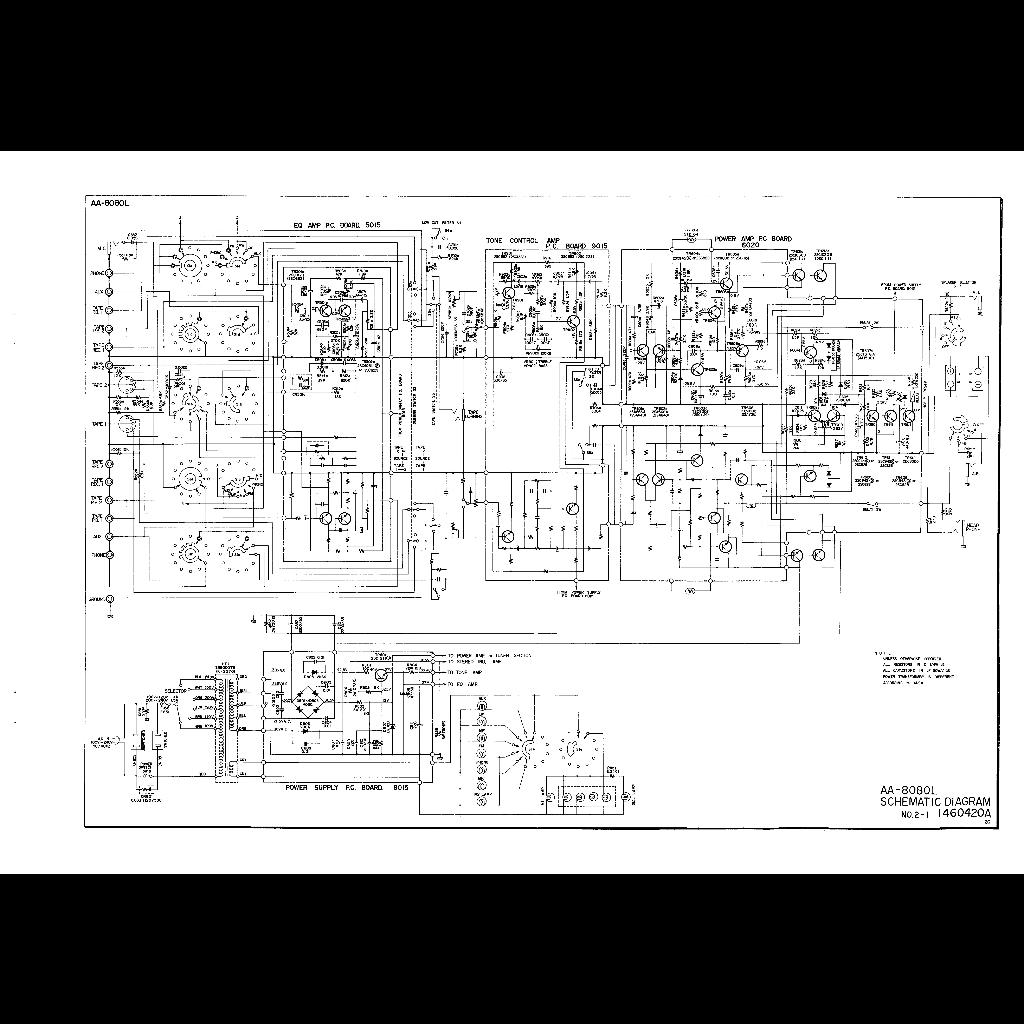Diagram: (83, 190, 1001, 832)
